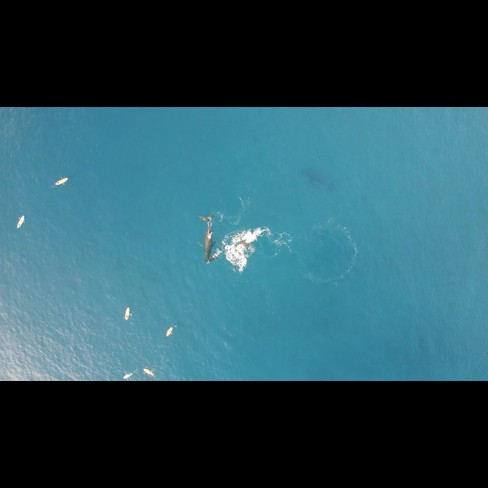hump: (197, 212, 273, 277)
